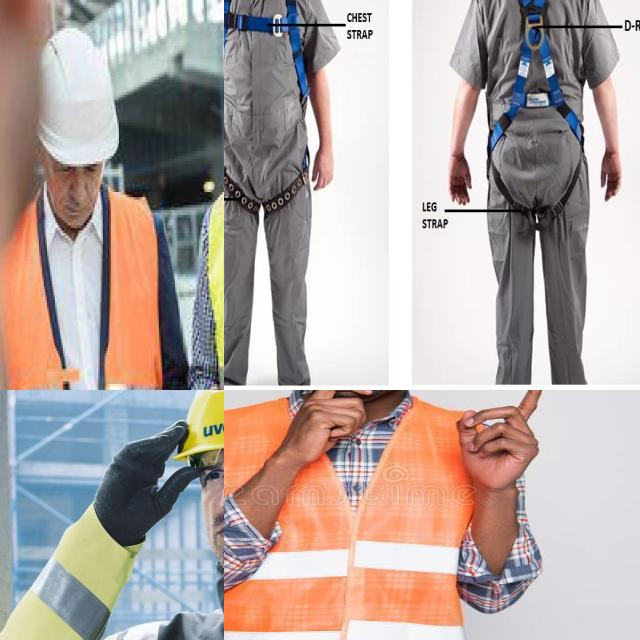Harness: (484, 0, 584, 224), (224, 0, 312, 217)
face_nomask: (185, 454, 224, 578), (46, 157, 106, 230)
hand_glove: (71, 415, 196, 538)
hand_noglove: (459, 390, 560, 485), (286, 390, 377, 470)
head_helmet: (29, 20, 127, 162), (173, 390, 224, 458)
person: (224, 390, 525, 640), (0, 15, 191, 390), (0, 416, 224, 640)
vest: (224, 397, 486, 640), (0, 191, 180, 390)
